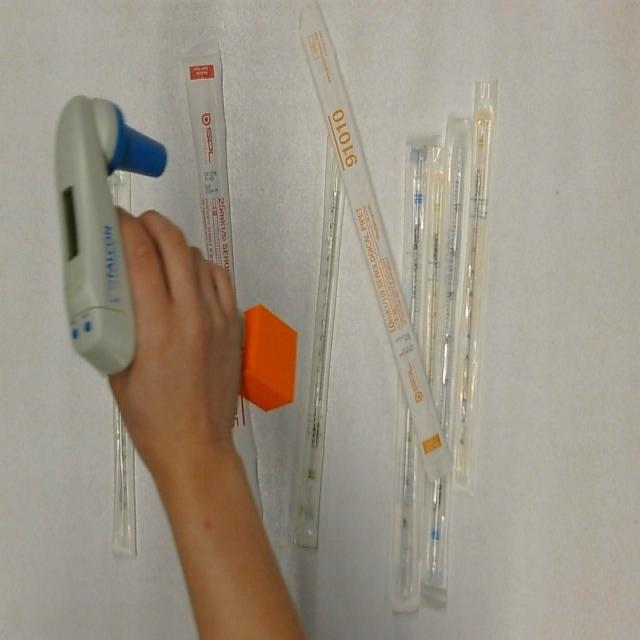Pipette Controller: (45, 91, 308, 417)
Serelogical Pipet 1 mL - Sealed: (449, 79, 503, 494), (417, 144, 454, 396)
Serelogical Pipet 10 mL - Sealed: (280, 2, 457, 486)
Serelogical Pipet 2 mL - Sealed: (288, 127, 402, 549), (106, 141, 139, 560)
Serelogical Pipet 25 mL - Sealed: (182, 35, 265, 534)
Serelogical Pipet 5 mL - Sealed: (420, 114, 476, 592), (389, 128, 435, 611)
